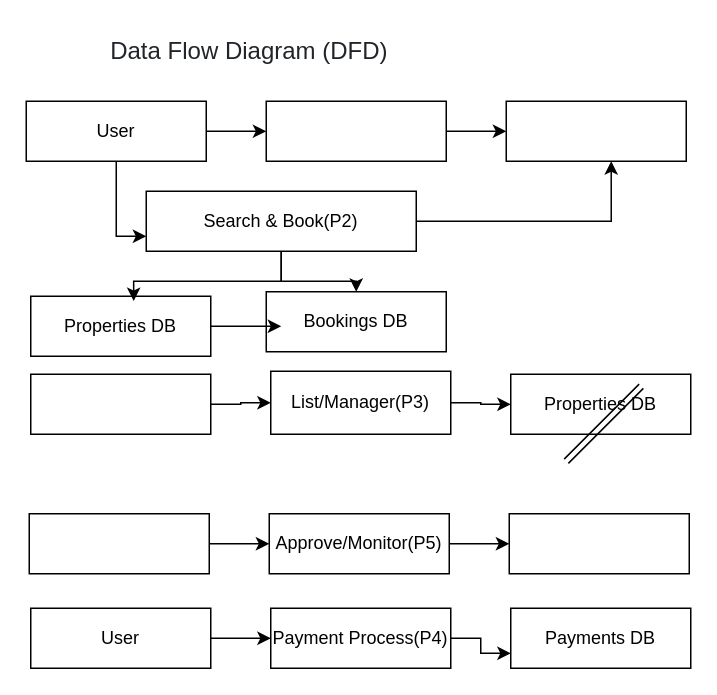
Some shapes in this 717 by 695 pixel diagram are drawn without their labels. The shapes that lost their labels are listed below. From the top down, each one's centre as x and y in pixels, then its label:
At (x=355, y=130): "Reg/Login(P1)".
At (x=595, y=130): "Users DB".
At (x=120, y=403): "PropertyOwner".
At (x=118, y=543): "Admin".
At (x=598, y=543): "All Databases".
